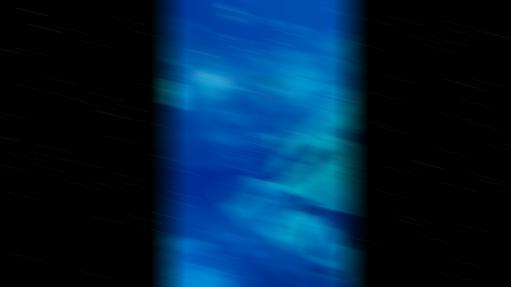Fish: (258, 147, 329, 198), (270, 123, 303, 150), (331, 210, 354, 247), (279, 21, 324, 35), (287, 195, 318, 215), (309, 265, 340, 278), (255, 74, 280, 86), (337, 125, 354, 141), (258, 11, 275, 26), (221, 5, 240, 15), (267, 87, 284, 98), (317, 246, 329, 259), (226, 36, 245, 43), (221, 14, 240, 21), (294, 226, 304, 239), (185, 20, 200, 28), (316, 37, 335, 42), (335, 30, 348, 36), (198, 51, 213, 56), (293, 24, 303, 31), (331, 9, 344, 14), (211, 31, 224, 36), (167, 155, 177, 161)
